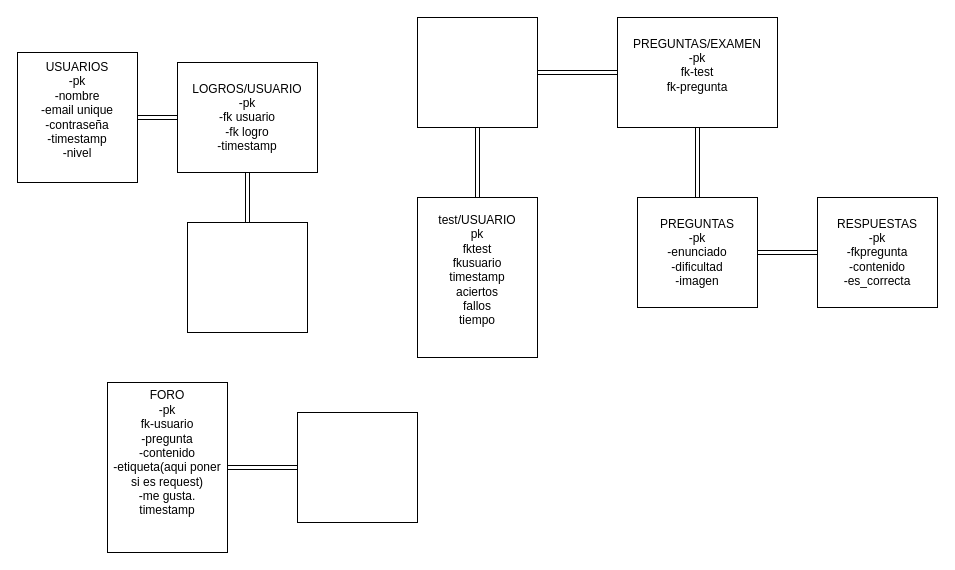
Image size: 955x570. Some labels were removed from this diagram. The centre of each missing label's shape, as x and y in pixels:
LOGROS -pk -nombre -descripcion -image: the point at 247,277
respuestasFORO -pk fk-usuario fkFORO -respuesta -timestamp: the point at 357,467
TEST -pk -nombre -nivel_dif -activo: the point at 477,72
